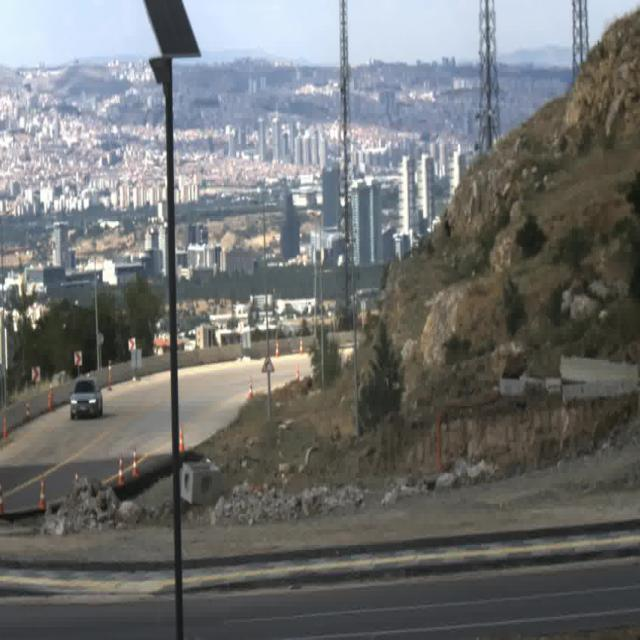Car: (70, 377, 106, 419)
